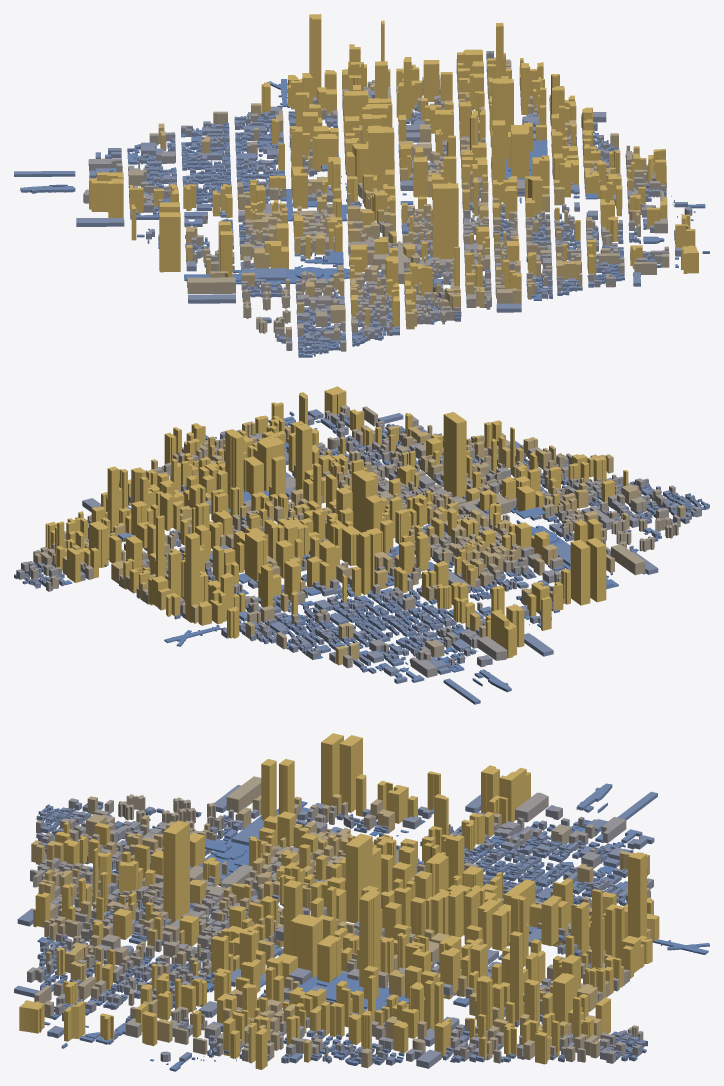
The model's file is buildings.glb.
The picture shows the model from 3 angles, top to bottom: view 1: azimuth 30°, elevation 25°; view 2: azimuth 150°, elevation 25°; view 3: azimuth 270°, elevation 25°; orthographic projection. The views are drawn at different scales.
Parts seen in each view (by area): view 1: buildings; view 2: buildings; view 3: buildings.
Part boxes in pixels (x1,y1,x2,y2): buildings: (14,14,709,357); buildings: (14,386,709,704); buildings: (14,733,709,1071).
Size of the model in its own units: 2975 by 528 by 3014.
